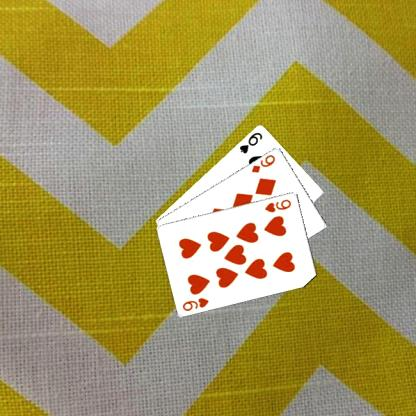6S: (236, 129, 264, 155)
9D: (249, 152, 276, 174)
9H: (262, 196, 292, 214), (180, 294, 210, 312)
